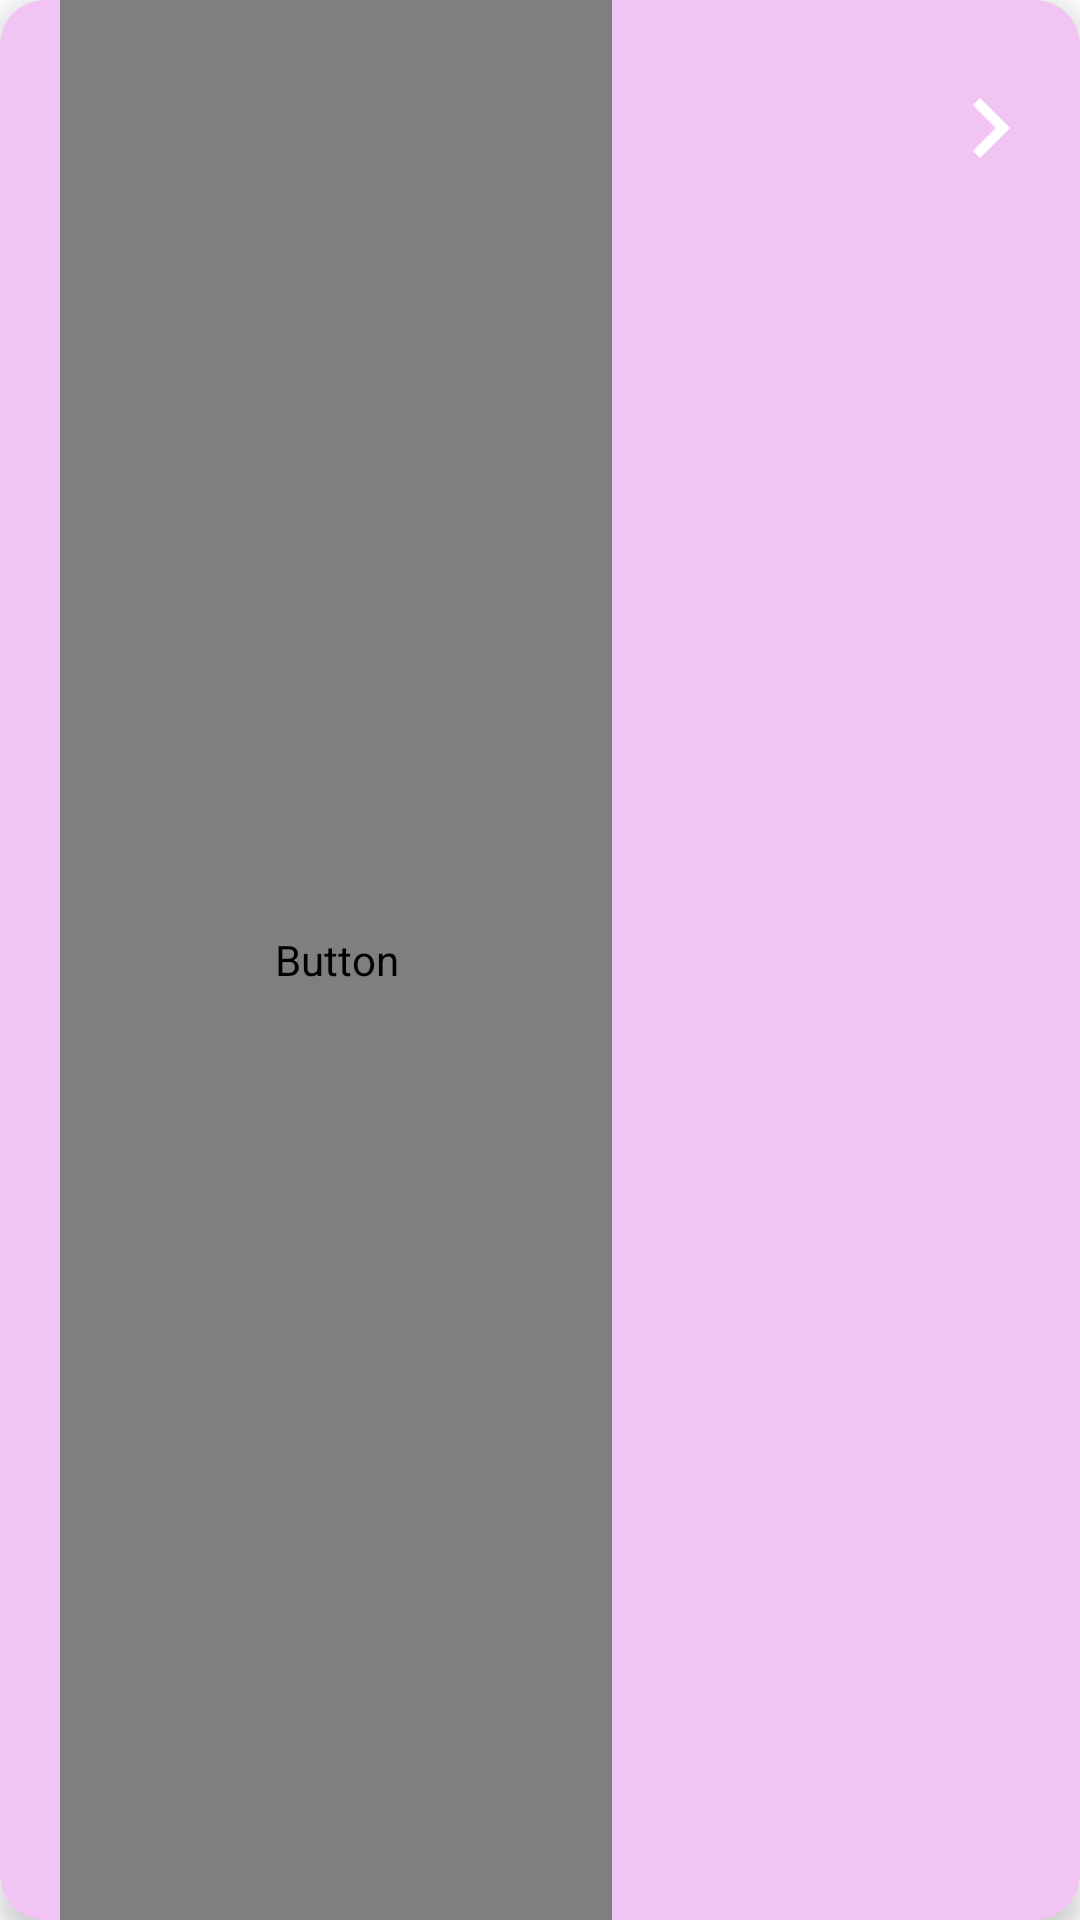

Icon bounding boxes for this 1080*1920 phone screenshot, format region(x1, y1, x2, y2):
arrow: region(973, 98, 1010, 158)
